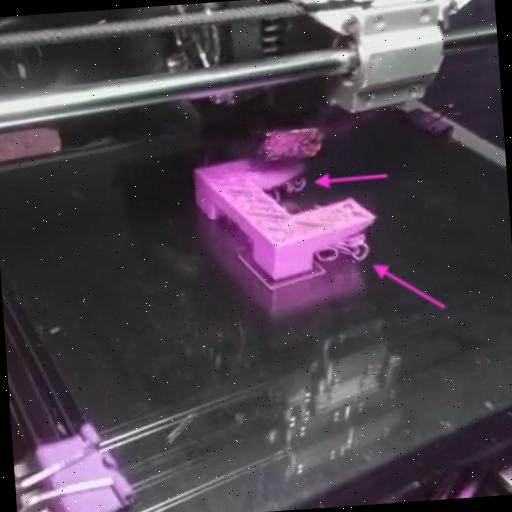spaghetti: (314, 228, 372, 270), (265, 174, 308, 204)
